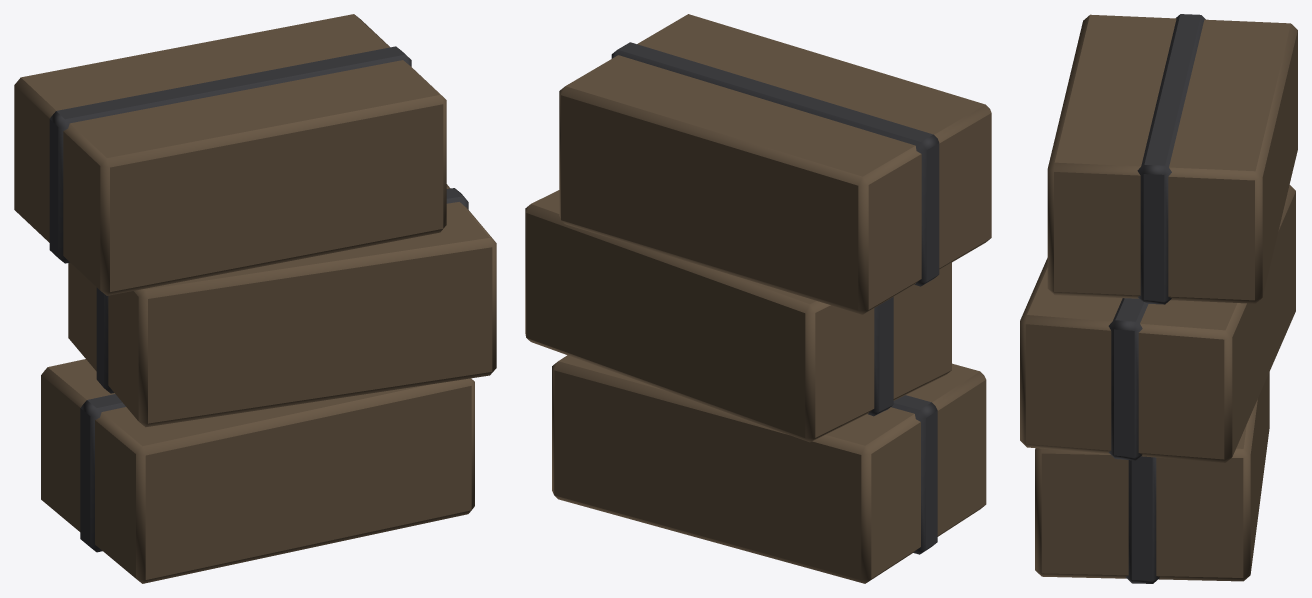
The model's file is prop_ammocrate.glb.
3 renders of one model, left to right at view 1: azimuth 30°, elevation 25°; view 2: azimuth 150°, elevation 25°; view 3: azimuth 270°, elevation 25°, orthographic. The views are drawn at different scales.
Parts seen in each view (by area): view 1: AmmoCrate; view 2: AmmoCrate; view 3: AmmoCrate.
Boxes of the visible parts, x1,y1,x2,y2 form: AmmoCrate: (14, 14, 496, 583); AmmoCrate: (525, 14, 991, 583); AmmoCrate: (1020, 14, 1297, 583).
Size of the model in its own units: 1.26 by 1.3 by 0.7979.
